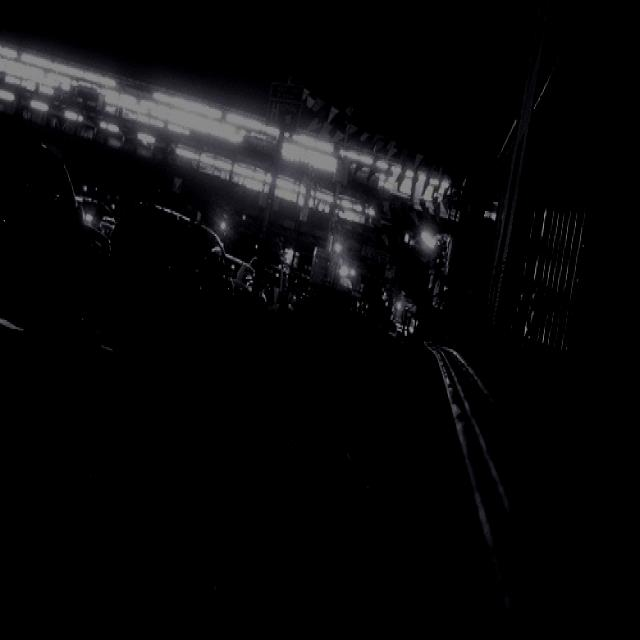Car: (1, 120, 110, 337), (104, 201, 235, 340)
